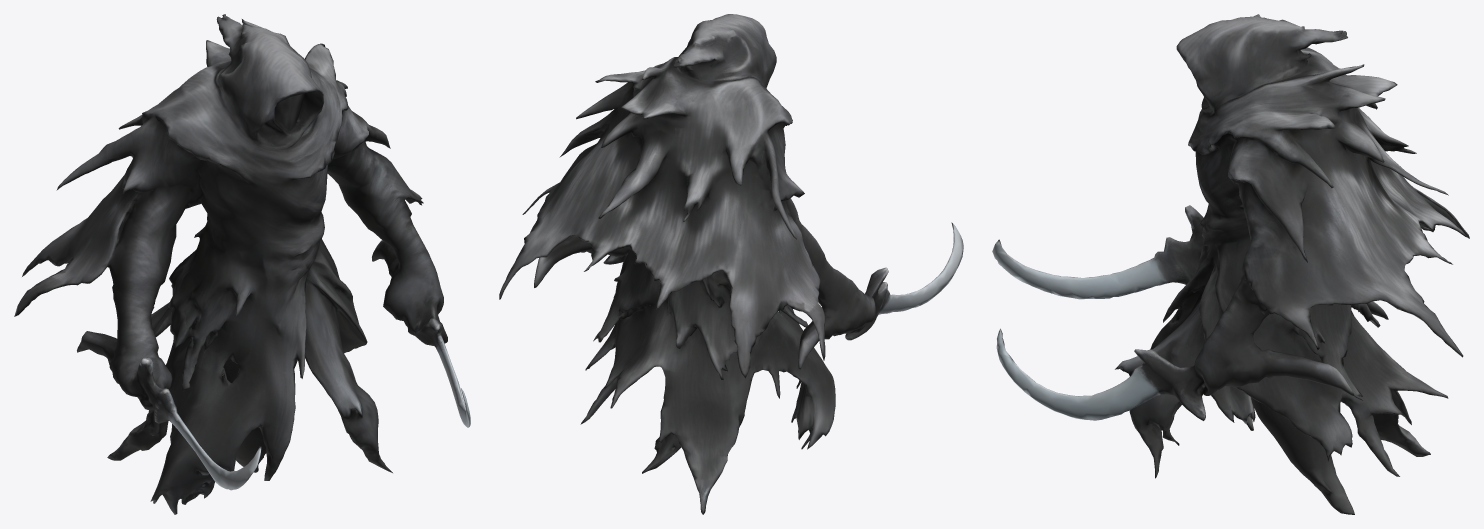
Rendered from shadow_stalker.glb.
3 renders of one model, left to right at view 1: azimuth 30°, elevation 25°; view 2: azimuth 150°, elevation 25°; view 3: azimuth 270°, elevation 25°, orthographic. The views are drawn at different scales.
Size of the model in its own units: 1.64 by 2 by 1.81.
Materials: 1 (1 with a texture image).
